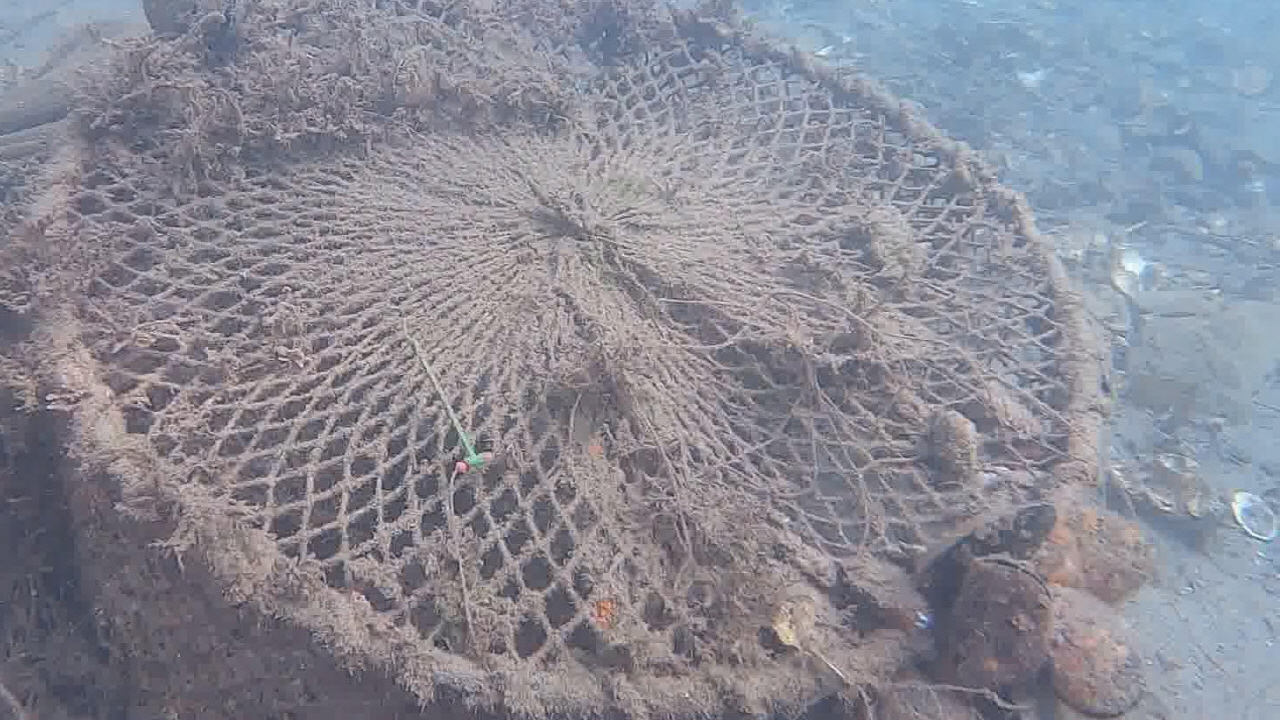circular fish trap: (23, 1, 1107, 720)
